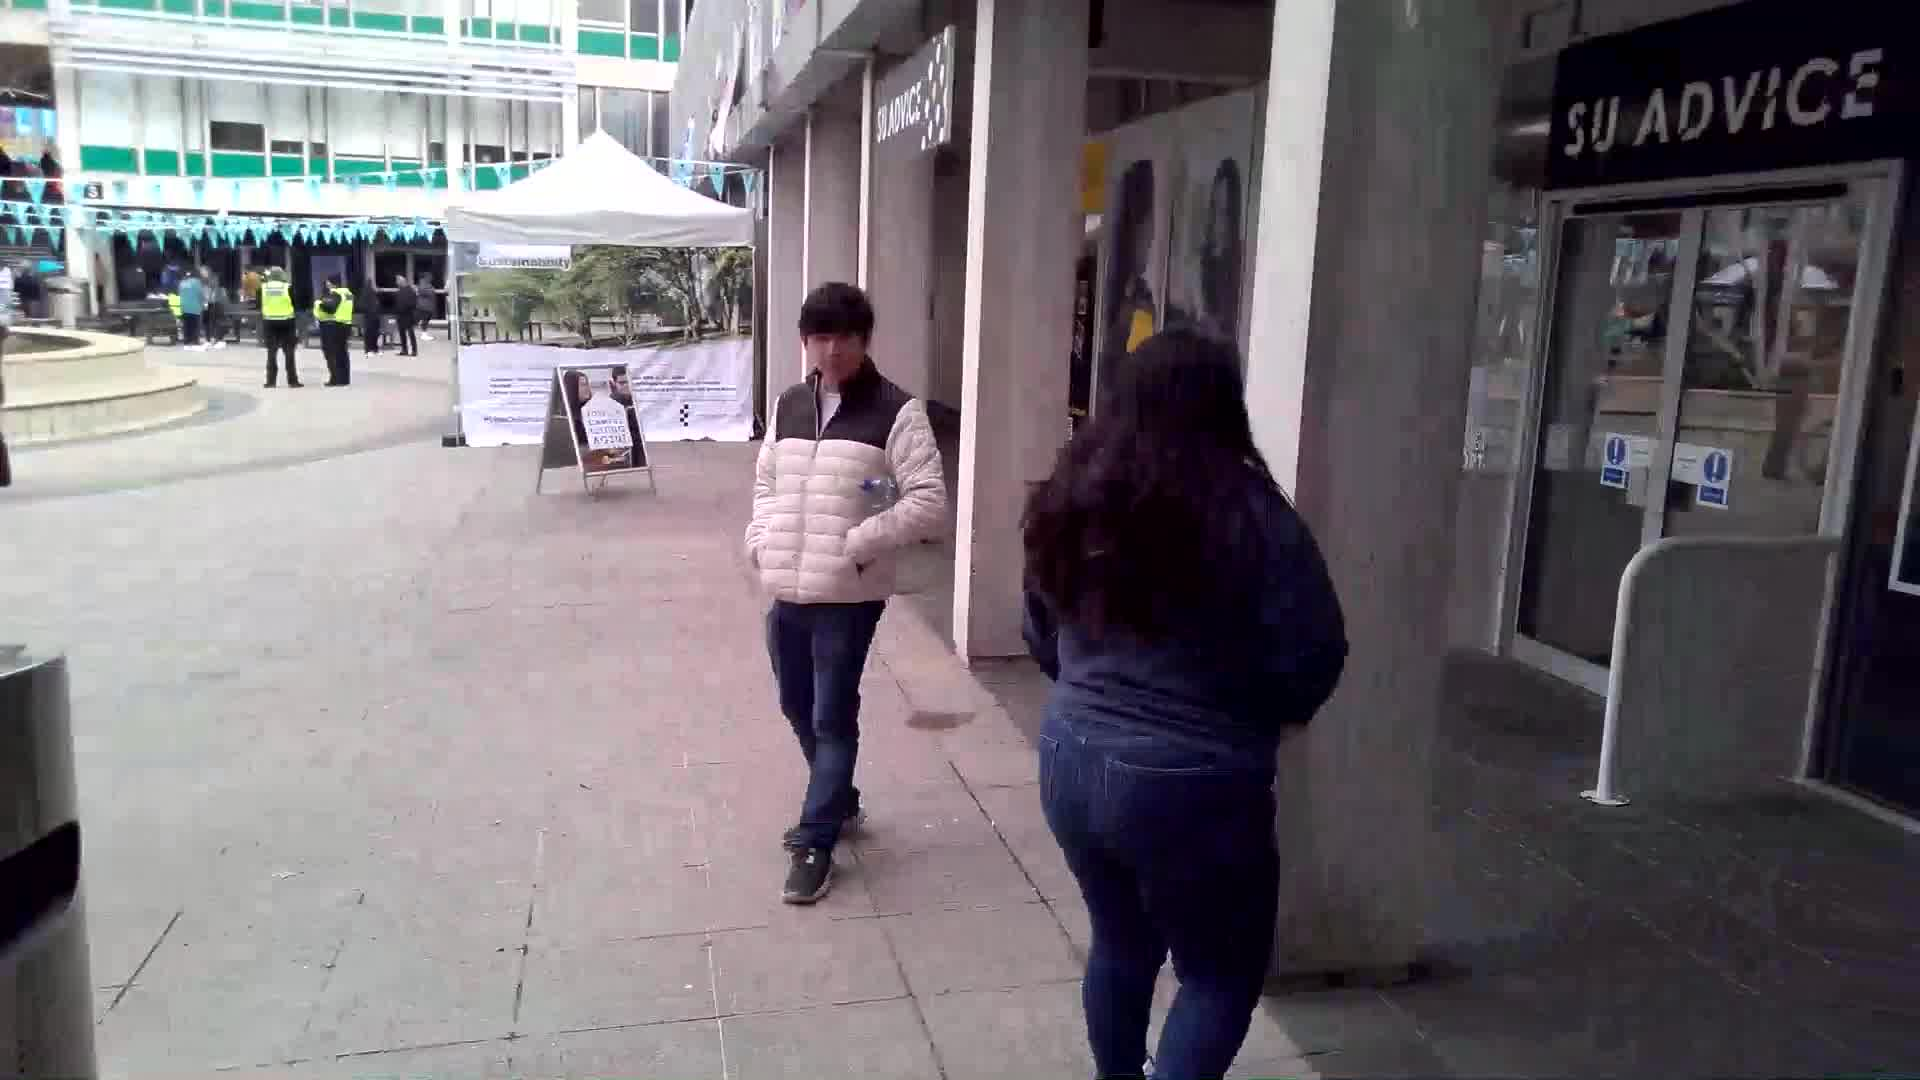Person: (1057, 337, 1269, 1080), (773, 285, 914, 885), (308, 269, 366, 390), (256, 257, 300, 391)
